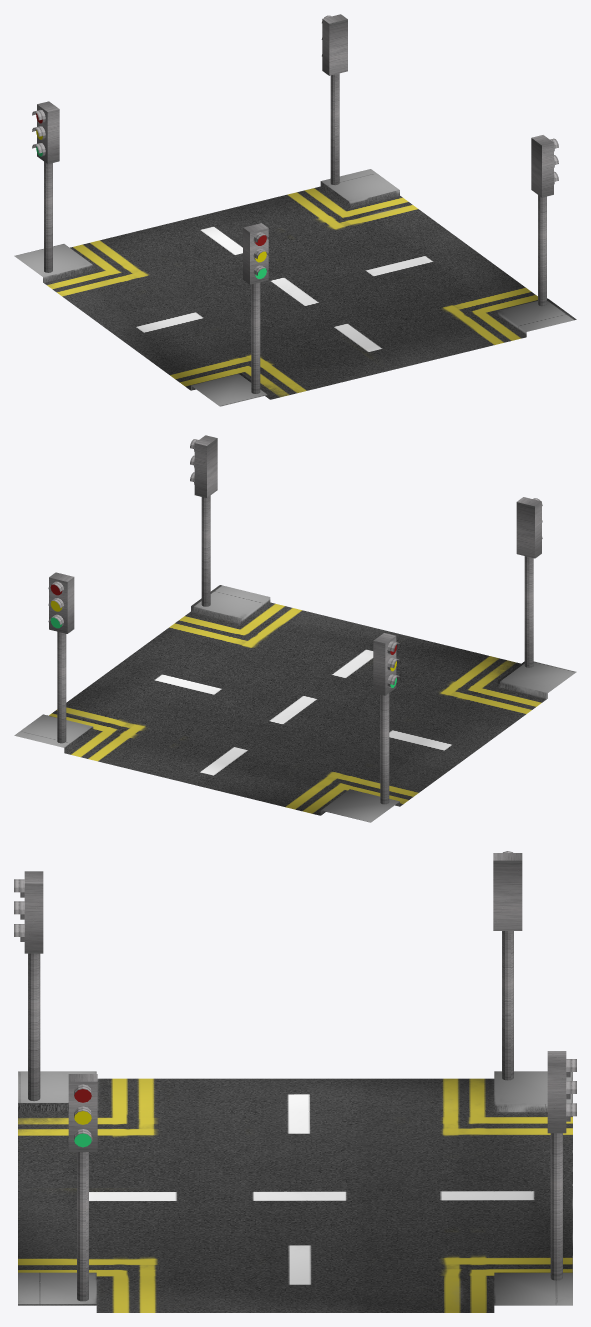
File: CrossroadsTraffic.obj
3 views of the same model, one above another, from view 1: azimuth 30°, elevation 25°; view 2: azimuth 150°, elevation 25°; view 3: azimuth 270°, elevation 25° (orthographic). The views are drawn at different scales.
Parts seen in each view (by area): view 1: Crossroads1:pPlane3, group2 group9 pCube1, group2 group8 pCube1, group2 group11 pCube1, pCylinder1 group2 group11, pCylinder1 group2 group9, group2 group10 pCube1, pCylinder1 group2 group8, pCylinder1 group2 group10; view 2: Crossroads1:pPlane3, group2 group11 pCube1, group2 group8 pCube1, group2 group9 pCube1, pCylinder1 group2 group11, pCylinder1 group2 group9, pCylinder1 group2 group10, pCylinder1 group2 group8, group2 group10 pCube1; view 3: Crossroads1:pPlane3, group2 group10 pCube1, pCylinder1 group2 group11, pCylinder1 group2 group9, pCylinder1 group2 group8, pCylinder1 group2 group10, group2 group11 pCube1, group2 group9 pCube1, group2 group8 pCube1.
Boxes of the visible parts, x1=… form: Crossroads1:pPlane3: x1=14, y1=169, x2=576, y2=406; group2 group9 pCube1: x1=322, y1=14, x2=347, y2=75; group2 group8 pCube1: x1=531, y1=135, x2=553, y2=197; group2 group11 pCube1: x1=243, y1=223, x2=268, y2=284; pCylinder1 group2 group11: x1=251, y1=282, x2=260, y2=393; pCylinder1 group2 group9: x1=330, y1=73, x2=339, y2=185; group2 group10 pCube1: x1=37, y1=101, x2=59, y2=163; pCylinder1 group2 group8: x1=538, y1=195, x2=546, y2=306; pCylinder1 group2 group10: x1=44, y1=162, x2=52, y2=272; Crossroads1:pPlane3: x1=14, y1=585, x2=576, y2=822; group2 group11 pCube1: x1=516, y1=497, x2=541, y2=558; group2 group8 pCube1: x1=194, y1=435, x2=217, y2=497; group2 group9 pCube1: x1=49, y1=572, x2=74, y2=633; pCylinder1 group2 group11: x1=524, y1=556, x2=533, y2=667; pCylinder1 group2 group9: x1=57, y1=631, x2=66, y2=743; pCylinder1 group2 group10: x1=380, y1=693, x2=389, y2=804; pCylinder1 group2 group8: x1=201, y1=495, x2=210, y2=606; group2 group10 pCube1: x1=373, y1=633, x2=396, y2=695; Crossroads1:pPlane3: x1=18, y1=1071, x2=572, y2=1312; group2 group10 pCube1: x1=493, y1=853, x2=522, y2=930; pCylinder1 group2 group11: x1=28, y1=953, x2=40, y2=1101; pCylinder1 group2 group9: x1=550, y1=1133, x2=562, y2=1280; pCylinder1 group2 group8: x1=77, y1=1152, x2=88, y2=1301; pCylinder1 group2 group10: x1=502, y1=931, x2=513, y2=1080; group2 group11 pCube1: x1=24, y1=871, x2=43, y2=953; group2 group9 pCube1: x1=547, y1=1051, x2=566, y2=1133; group2 group8 pCube1: x1=68, y1=1074, x2=97, y2=1151.
Size of the model in its own units: 50.75 by 22.72 by 50.75.
